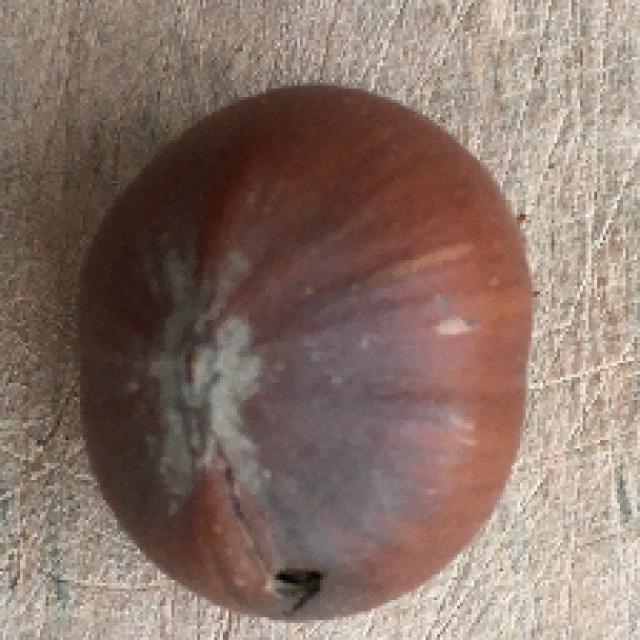DamagedHazelnut: (75, 85, 532, 623)
